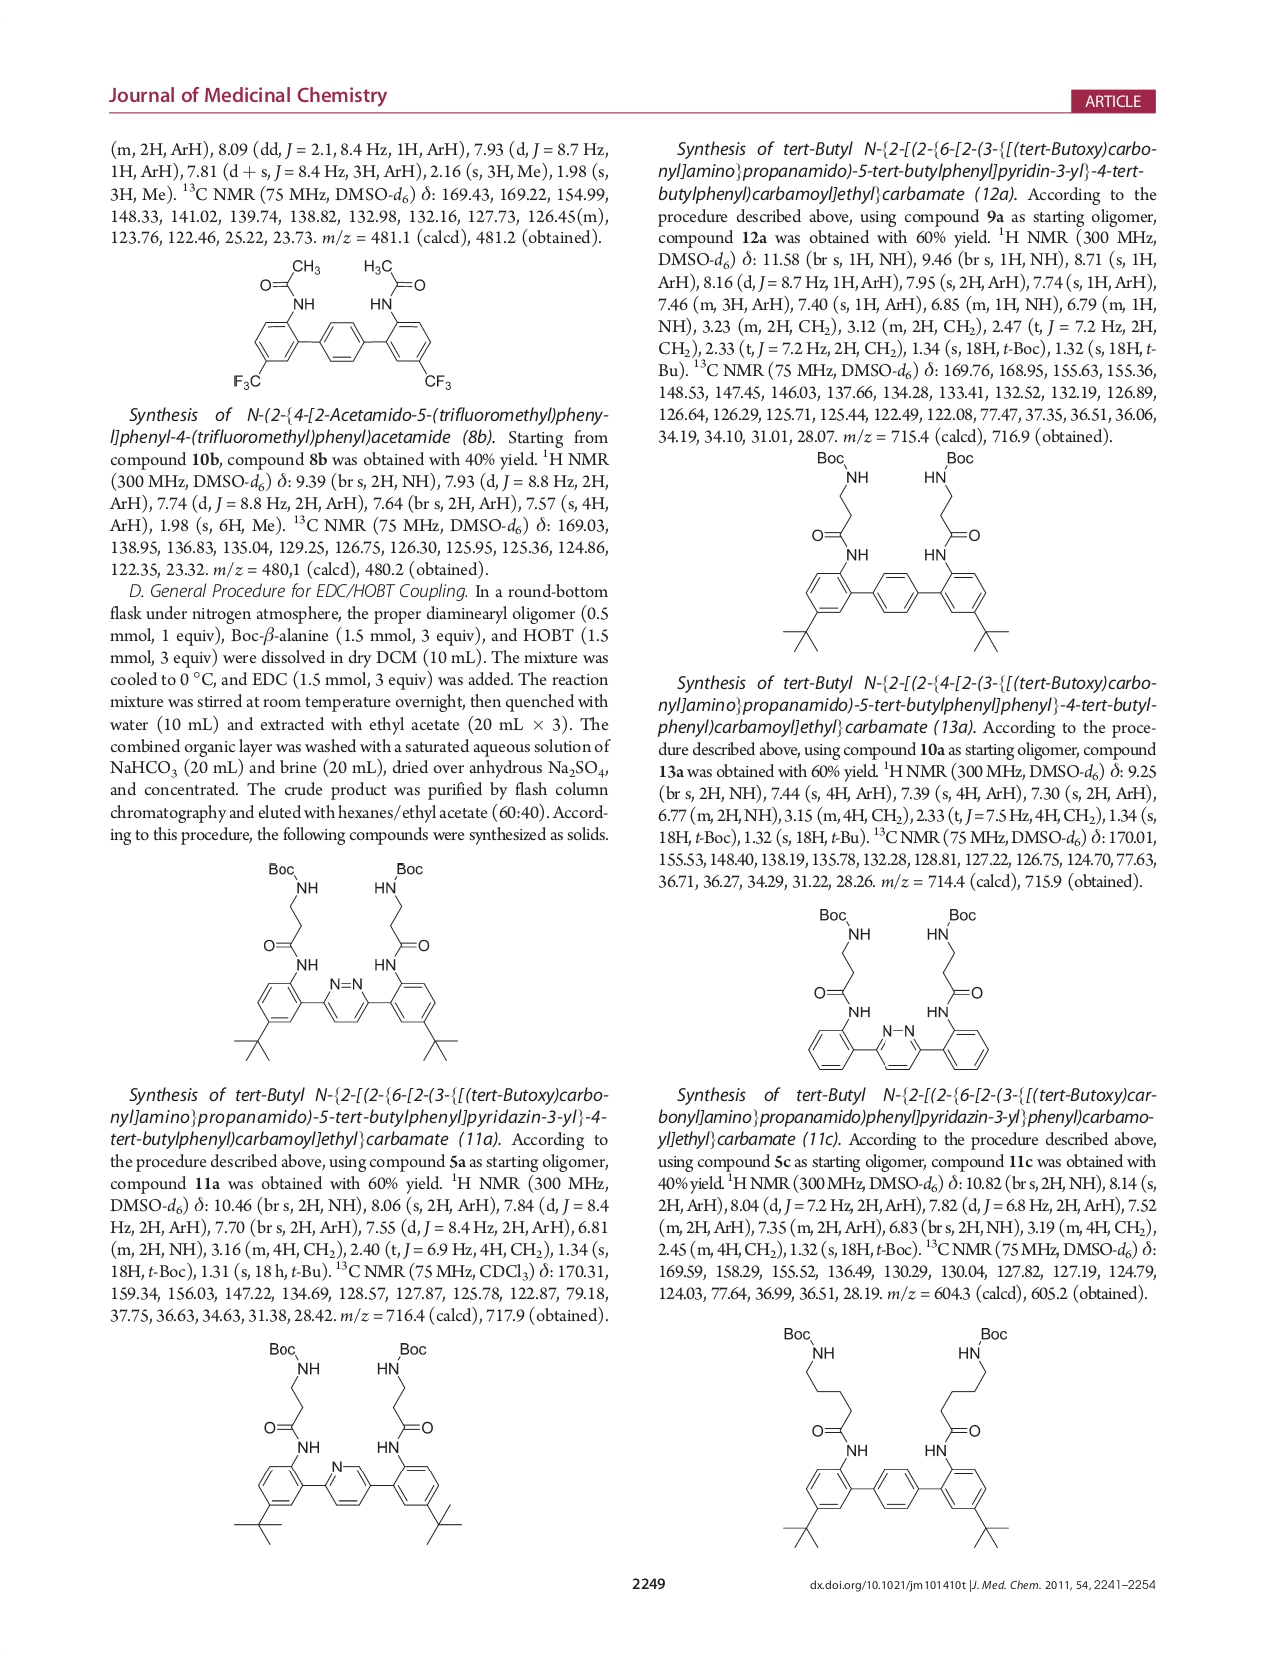exist_molecular: (777, 1321, 1015, 1555), (230, 1337, 465, 1551), (781, 448, 1013, 657), (229, 860, 460, 1064), (799, 904, 993, 1073), (230, 254, 456, 394)
